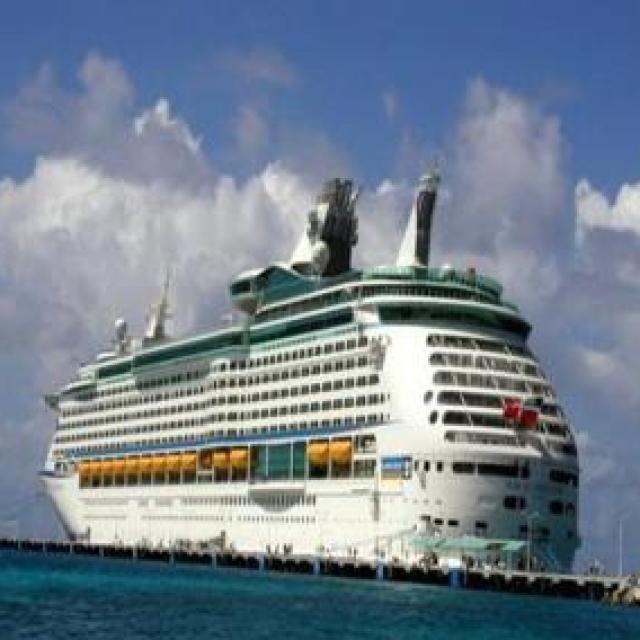passenger ship: (28, 156, 586, 568)
